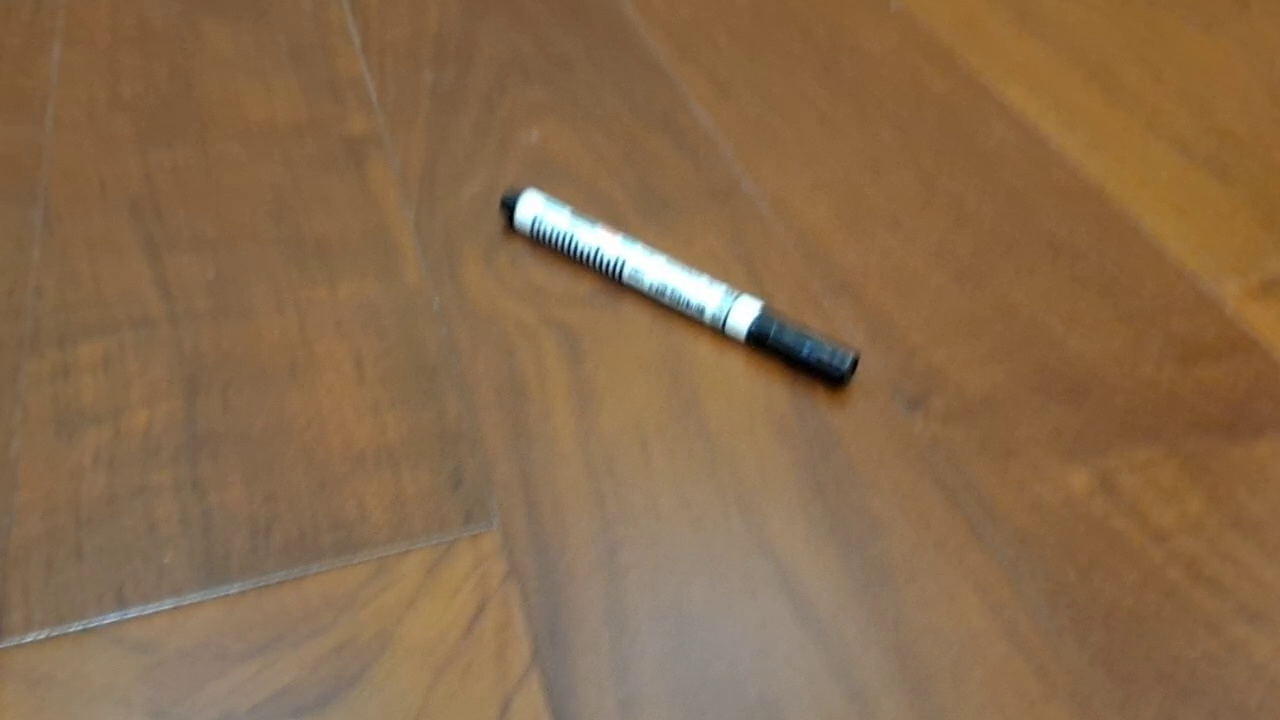pen: (498, 184, 862, 391)
